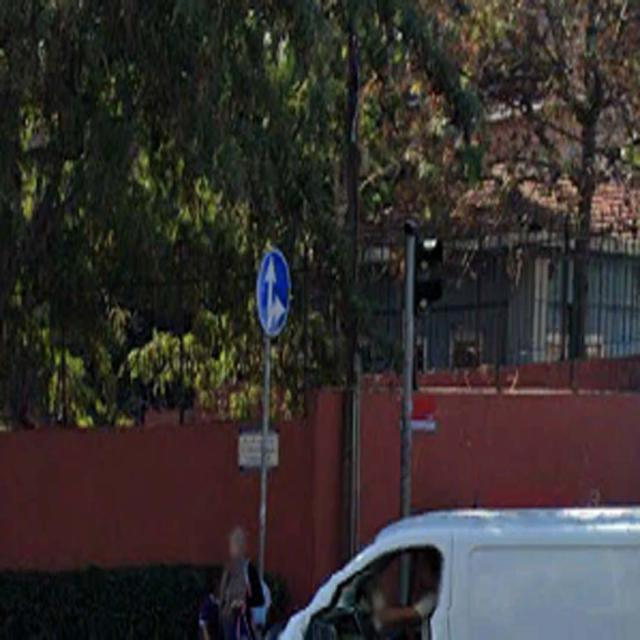ilerisag: (256, 249, 292, 336)
